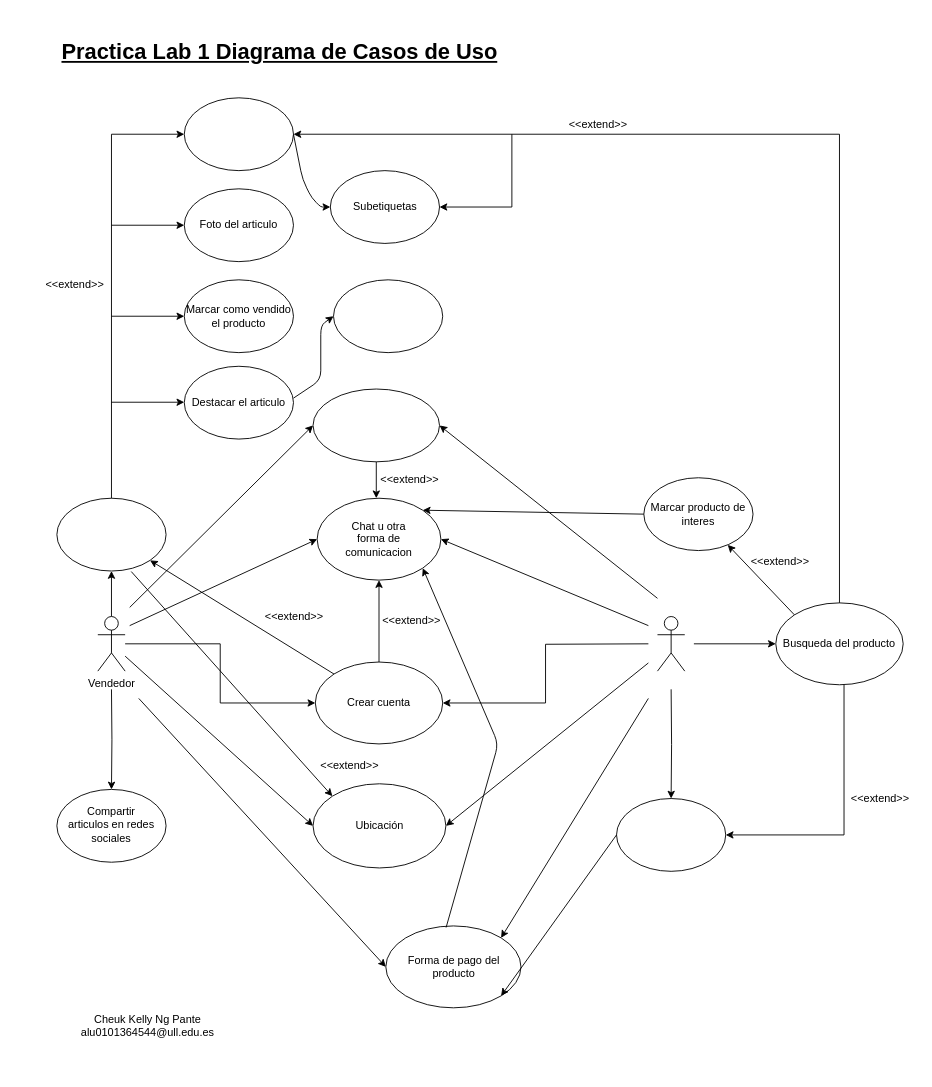
Image size: 932x1087. Some labels were removed from this diagram. Here are the shapes that lost their labels. From the top down, the centre of each, then its label:
At (x=238, y=134): "Etiquetar los articulos".
At (x=388, y=316): "Acceso Premium (PRO)".
At (x=376, y=425): "Reserva del producto".
At (x=111, y=534): "Publicar articulo".
At (x=671, y=643): "Comprador".
At (x=671, y=834): "Adquirir el producto".
